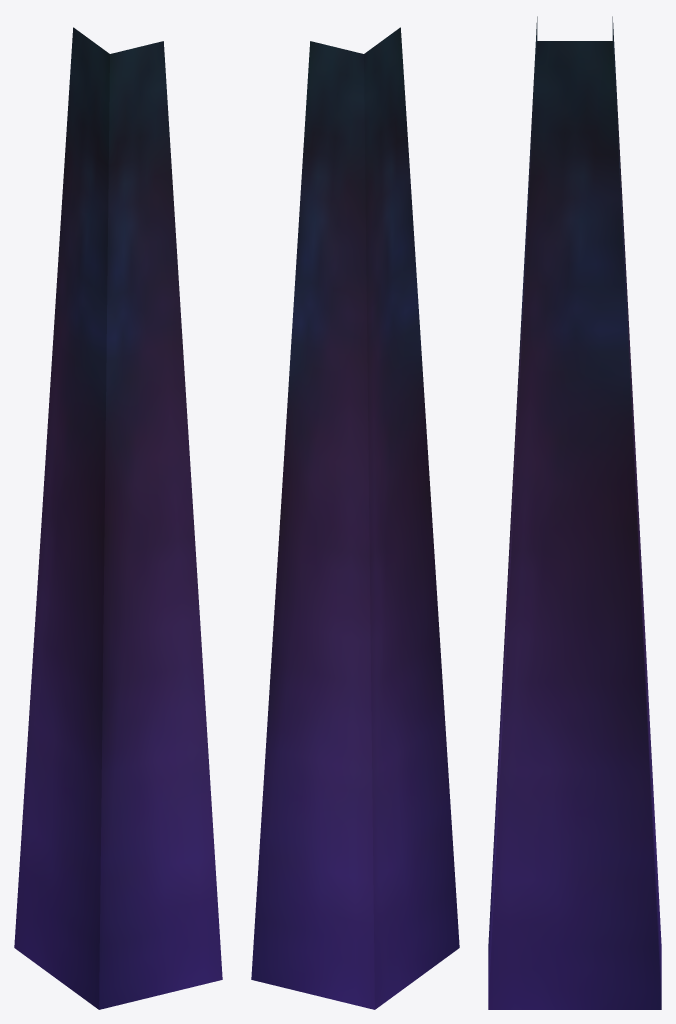
File: treetrunk.glb
The picture shows the model from 3 angles, left to right: view 1: azimuth 30°, elevation 25°; view 2: azimuth 150°, elevation 25°; view 3: azimuth 270°, elevation 25°; orthographic projection. The views are drawn at different scales.
Visible parts, largest first — view 1: treetrunk; view 2: treetrunk; view 3: treetrunk.
Part boxes in pixels (x1=…): treetrunk: x1=14, y1=27, x2=222, y2=1009; treetrunk: x1=251, y1=27, x2=459, y2=1009; treetrunk: x1=488, y1=16, x2=661, y2=1009.
Size of the model in its own units: 148 by 1065 by 176.
1 material, 1 textured.
